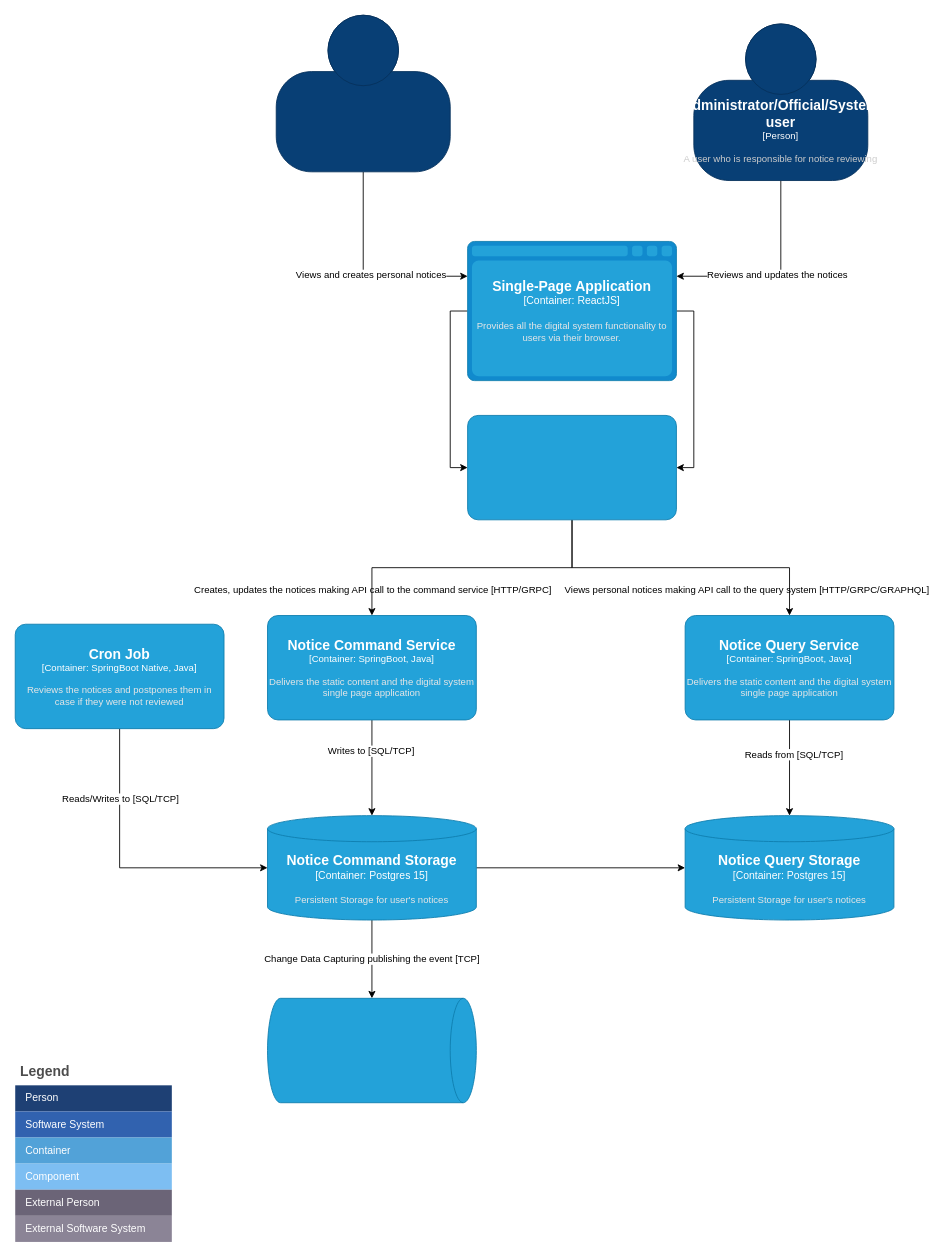
Image size: 944x1257. Some labels were removed from this diagram. Here are the shapes that lost their labels. From the top down, the box of each, then its label:
(275, 14, 450, 172): Typical user [Person] A user of the system with personal notice requests
(467, 415, 676, 520): Gateway [Container: SpringBoot, Java] The typical gateway
(267, 997, 476, 1103): Message Bus [Container: RabbitMQ] The pub/sub client for operations with notices
